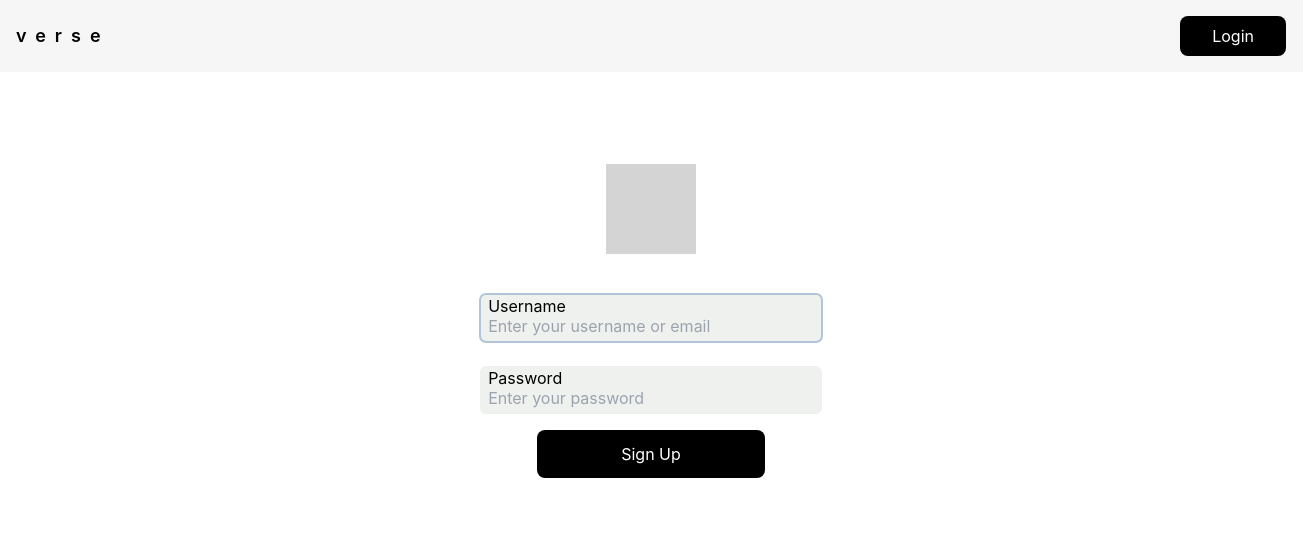
Test: Signup › displays the error message when only password is empty
The image size is (1303, 551).
Type "username test" into the field with test id "username" at (651, 318), box [480,294,822,342]
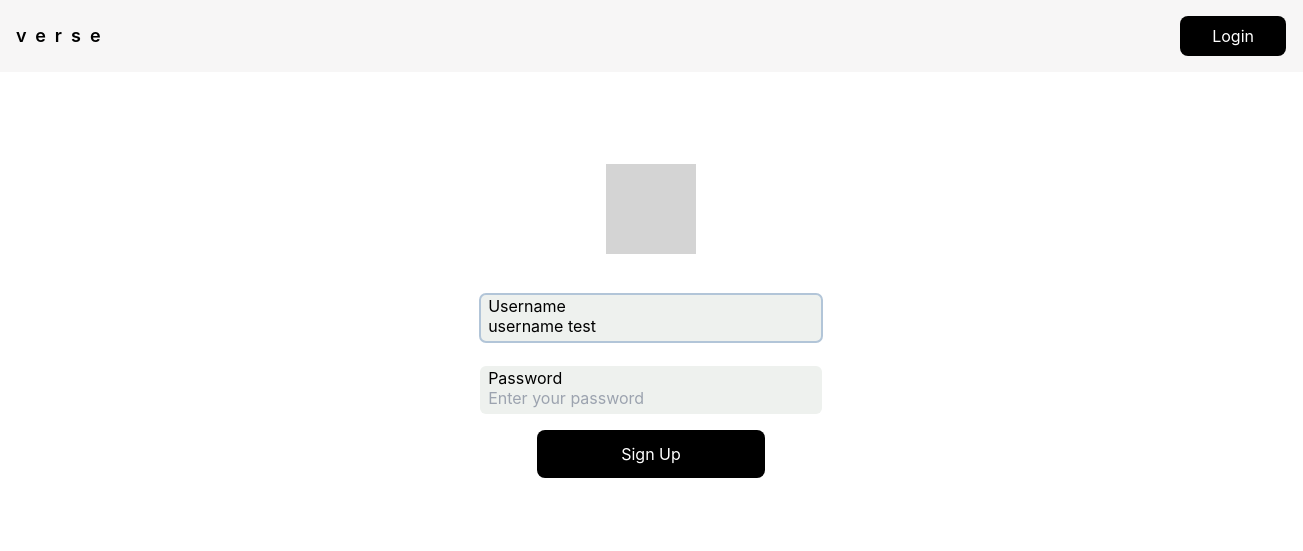
Click the button with test id "signup-button" at (651, 454), box [537,430,765,478]
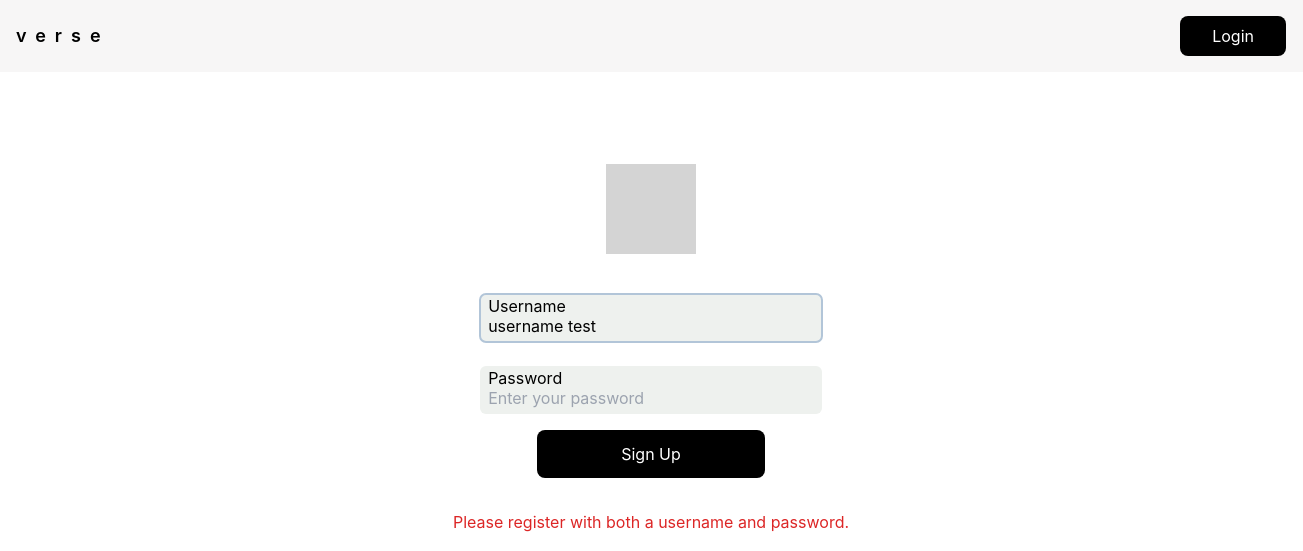
Now the text "Please register with both a username and password." is shown, box [453,510,849,534]
